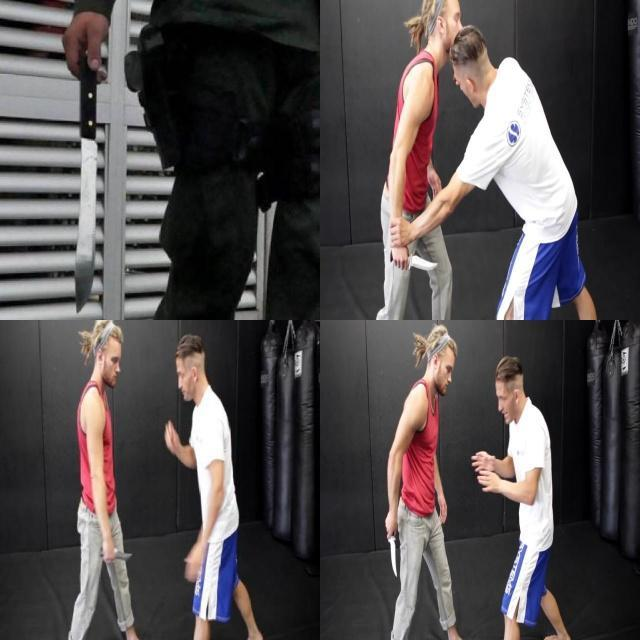-: (58, 26, 105, 317), (386, 241, 441, 274), (382, 512, 398, 580), (96, 540, 135, 566)
